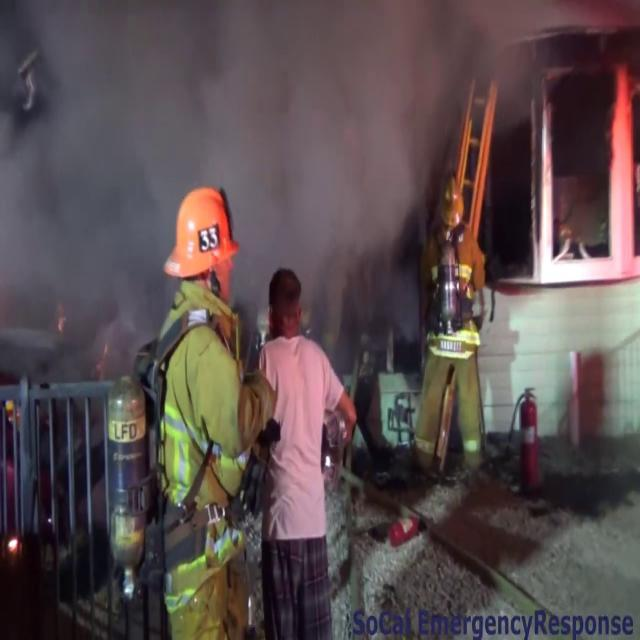Smoke: (0, 0, 527, 322)
